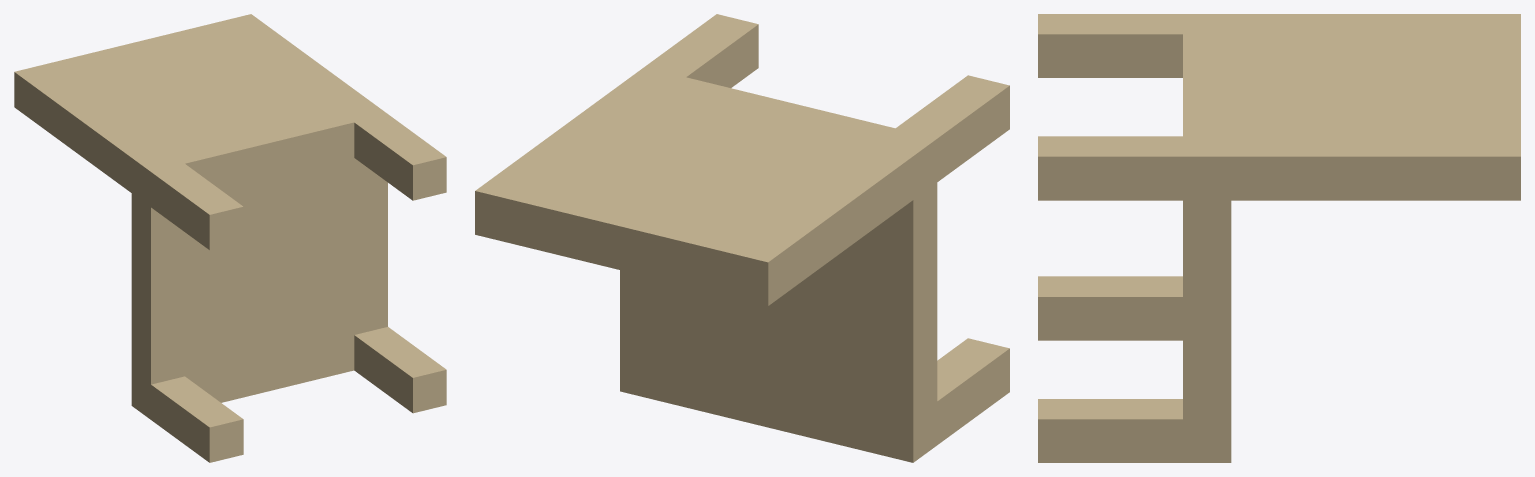
Rendered from oak_chair_held.gltf.
The picture shows the model from 3 angles, left to right: view 1: azimuth 30°, elevation 25°; view 2: azimuth 150°, elevation 25°; view 3: azimuth 270°, elevation 25°; orthographic projection. The views are drawn at different scales.
Parts seen in each view (by area): view 1: building_oak_chair_held; view 2: building_oak_chair_held; view 3: building_oak_chair_held.
Part boxes in pixels (<box>): building_oak_chair_held: <box>14,14,446,462</box>; building_oak_chair_held: <box>475,14,1009,462</box>; building_oak_chair_held: <box>1038,14,1520,462</box>.
Bounding box in the file's own units: 0.112 × 0.112 × 0.16.
